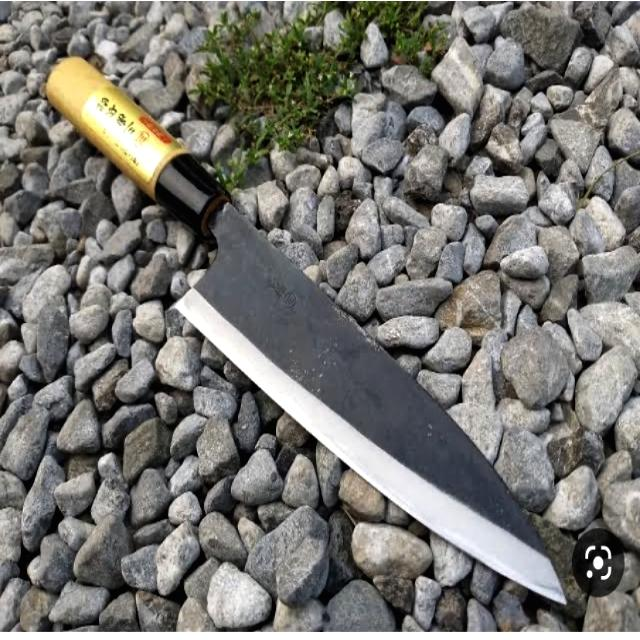knife: (8, 32, 578, 628)
